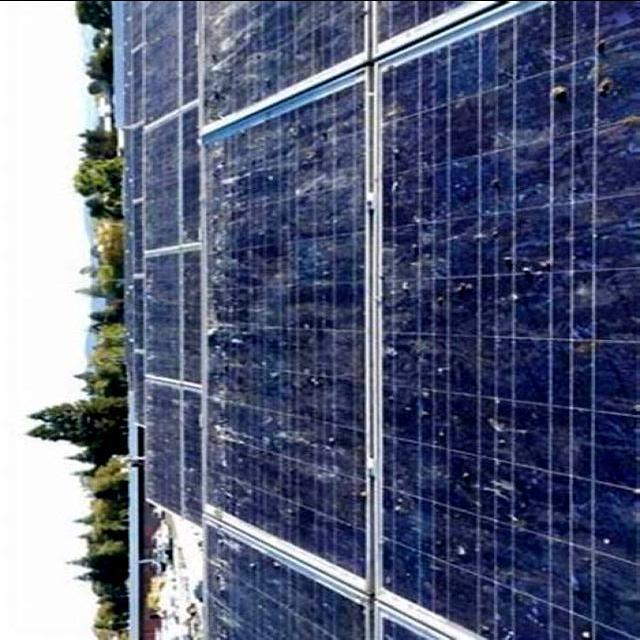soiled: (206, 0, 640, 637), (143, 0, 210, 523)
